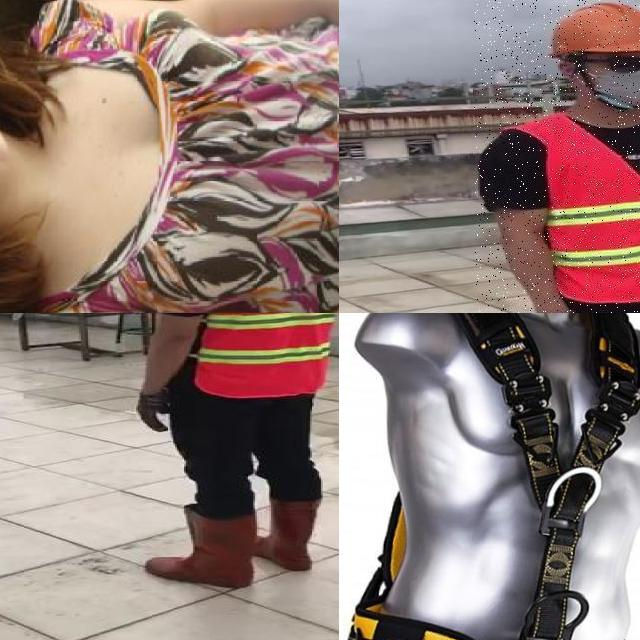Harness: (452, 313, 640, 640)
boots: (145, 508, 255, 590), (255, 495, 316, 571)
hand_glove: (132, 391, 172, 433)
head_helmet: (541, 0, 640, 57)
person: (121, 313, 339, 592), (474, 0, 640, 313)
vest: (542, 116, 640, 303), (189, 313, 339, 397)
